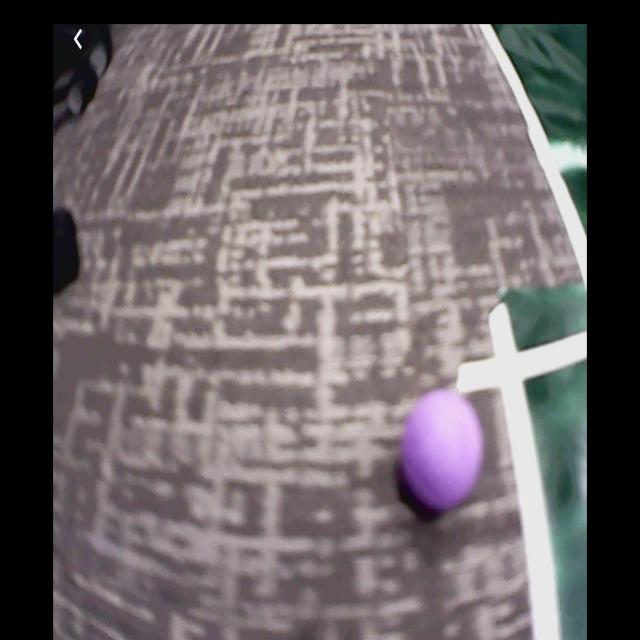ball: (399, 387, 486, 515)
